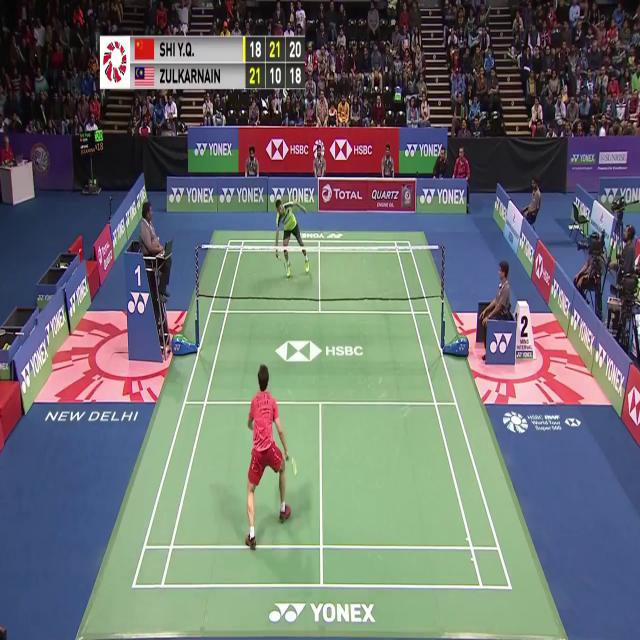Shuttlecock: (302, 192, 309, 204)
